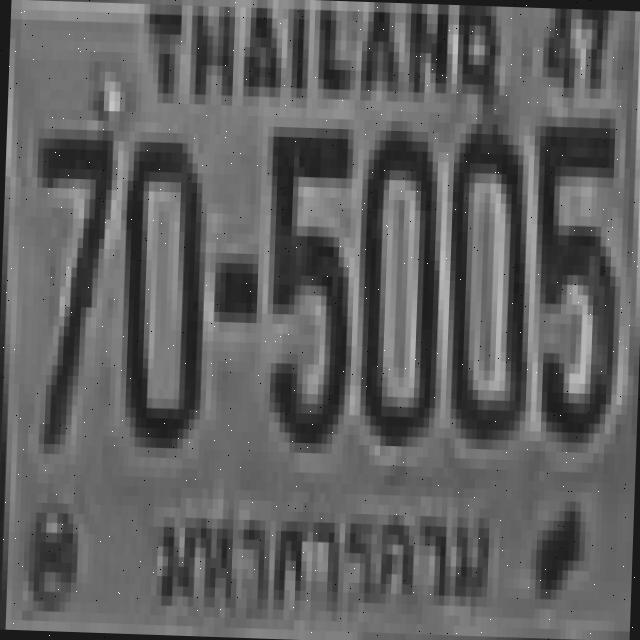0: (113, 131, 204, 439), (442, 118, 526, 435), (354, 120, 438, 436)
5: (524, 106, 621, 434), (257, 116, 354, 444)
7: (25, 123, 110, 440)
MahaSarakham: (138, 492, 498, 623)
